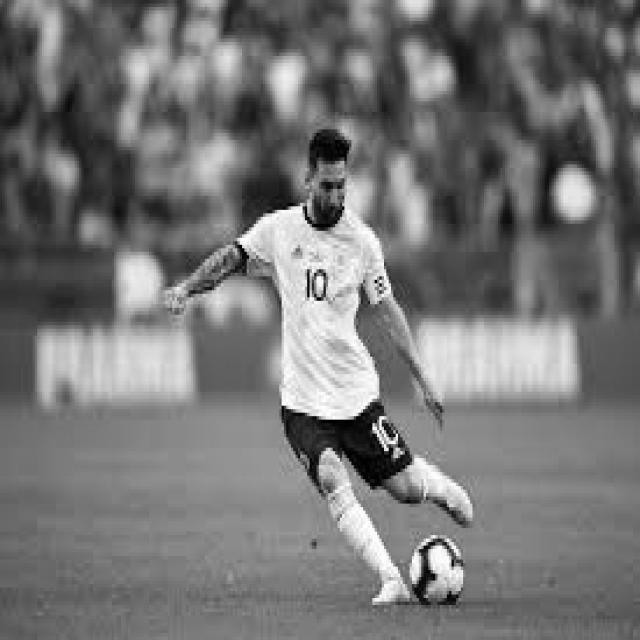football: (412, 526, 466, 612)
